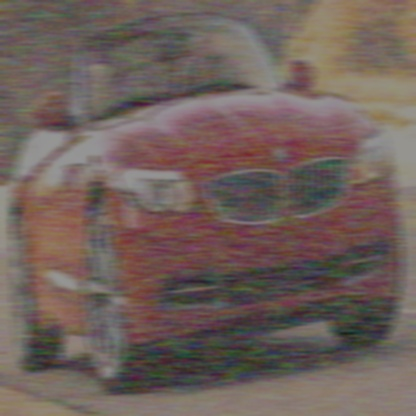Vehicle: (13, 12, 404, 396)
